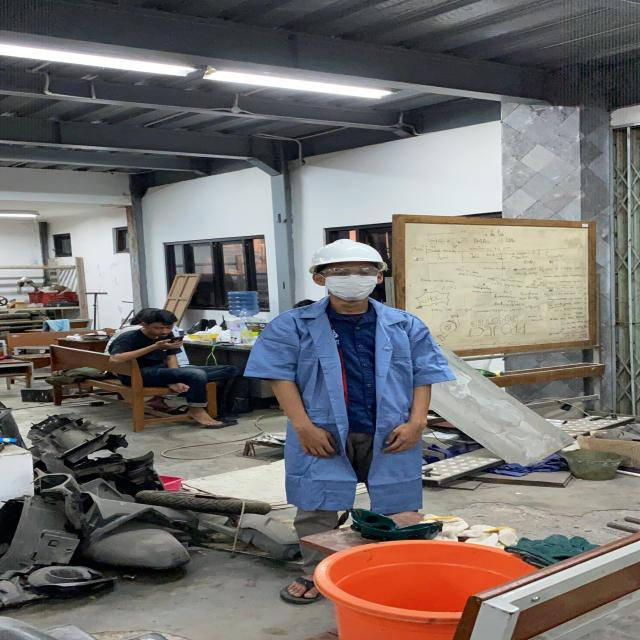glasses: (314, 264, 382, 280)
